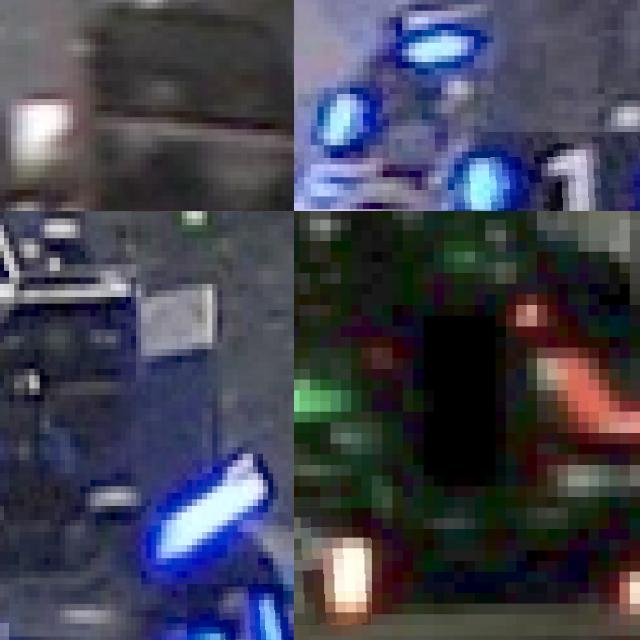B1: (454, 132, 640, 211)
B3: (186, 584, 283, 640)
Rs: (294, 507, 371, 625)
